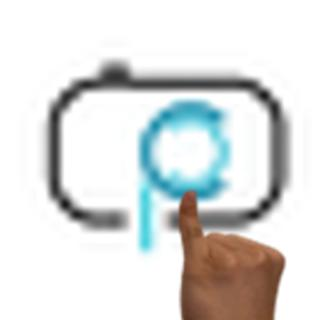FINE: (172, 187, 289, 320)
